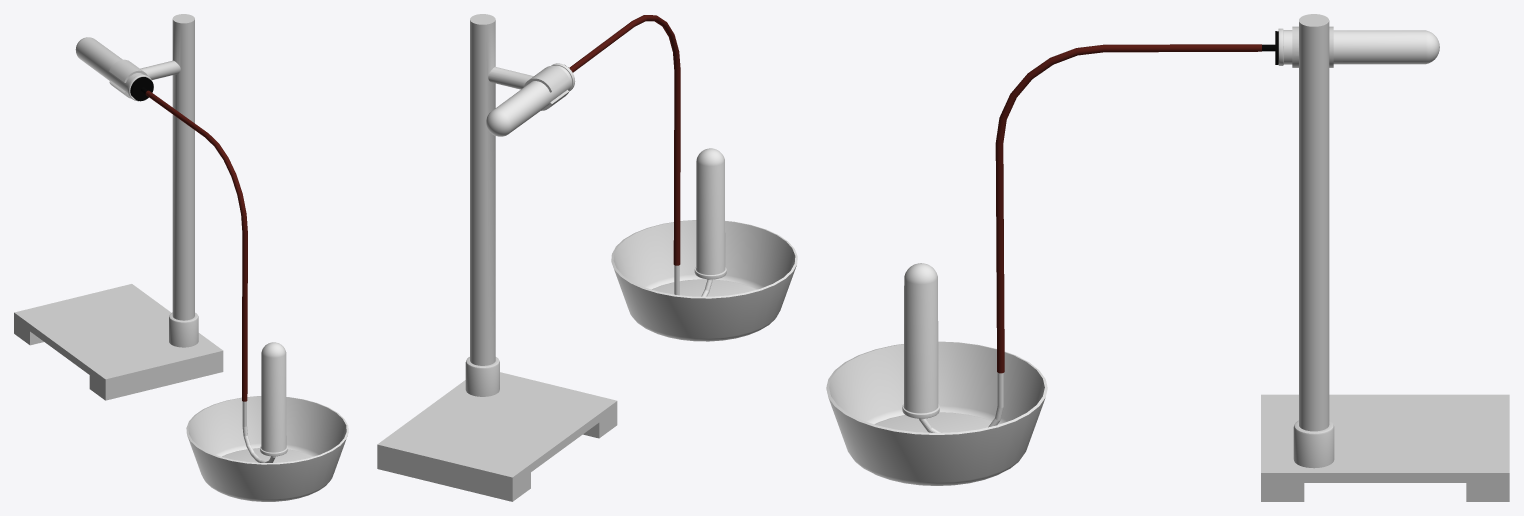
File: decomposition_construction_set.fbx
The picture shows the model from 3 angles, left to right: view 1: azimuth 30°, elevation 25°; view 2: azimuth 150°, elevation 25°; view 3: azimuth 270°, elevation 25°; orthographic projection. The views are drawn at different scales.
Parts seen in each view (by area): view 1: Держалка пробирки, миска, Пробирка с кислородом, трубка резиновая, Пробирка с марганцем, затыычка, трубка стекляная; view 2: Держалка пробирки, миска, Пробирка с кислородом, трубка резиновая, Пробирка с марганцем; view 3: Держалка пробирки, миска, Пробирка с кислородом, трубка резиновая, Пробирка с марганцем.
Part boxes in pixels (x1,y1,x2,y2): Держалка пробирки: [14, 14, 223, 400]; миска: [186, 396, 348, 501]; Пробирка с кислородом: [260, 342, 287, 456]; трубка резиновая: [145, 90, 247, 401]; Пробирка с марганцем: [75, 37, 152, 101]; затыычка: [130, 77, 153, 101]; трубка стекляная: [242, 401, 275, 462]; Держалка пробирки: [377, 14, 617, 501]; миска: [611, 220, 797, 341]; Пробирка с кислородом: [694, 148, 726, 279]; трубка резиновая: [569, 15, 680, 265]; Пробирка с марганцем: [486, 63, 575, 136]; Держалка пробирки: [1261, 14, 1509, 501]; миска: [826, 341, 1047, 485]; Пробирка с кислородом: [902, 263, 939, 418]; трубка резиновая: [995, 44, 1261, 373]; Пробирка с марганцем: [1278, 28, 1439, 65].
Size of the model in its own units: 179 by 404 by 535.
